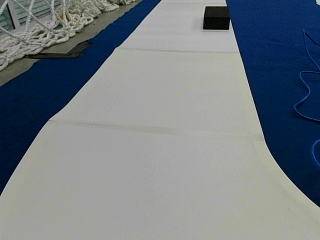block: (202, 5, 230, 29)
